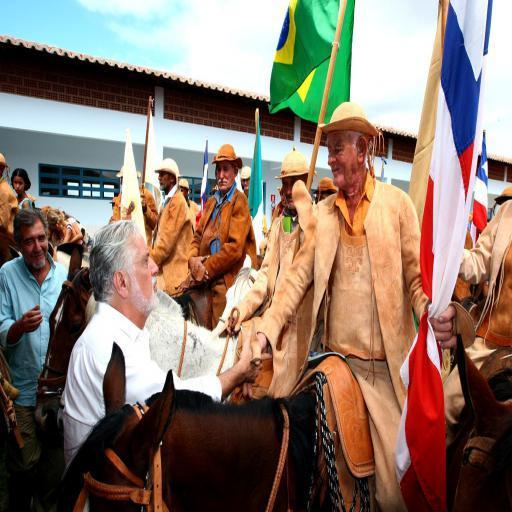horse: (47, 339, 328, 512), (32, 246, 236, 432), (82, 287, 238, 406), (446, 330, 512, 512), (214, 252, 257, 326), (8, 242, 90, 272), (0, 222, 21, 267)
